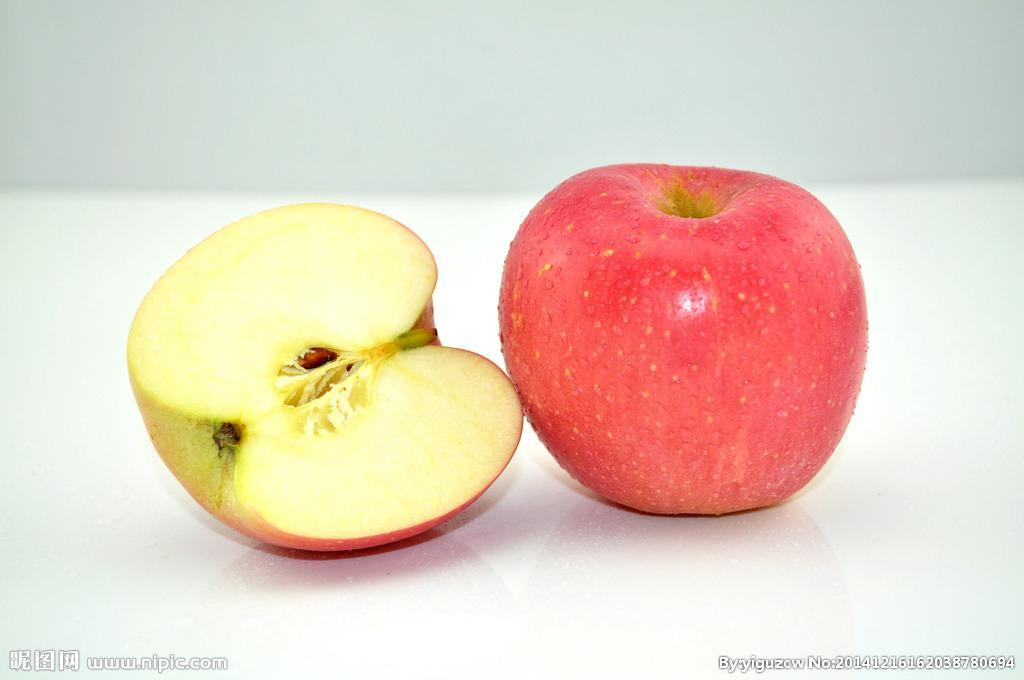apple: (496, 162, 867, 517)
